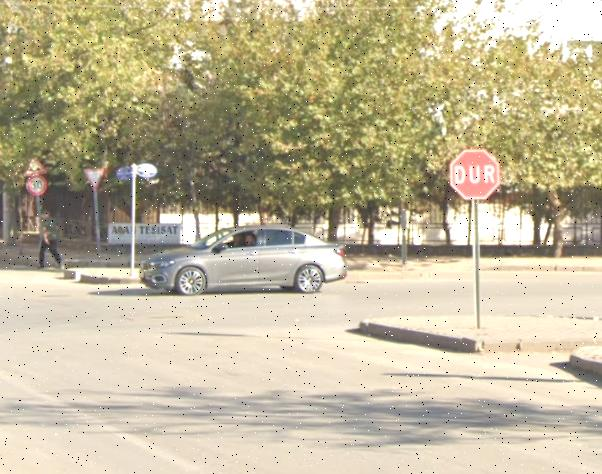stop: (452, 151, 500, 202)
